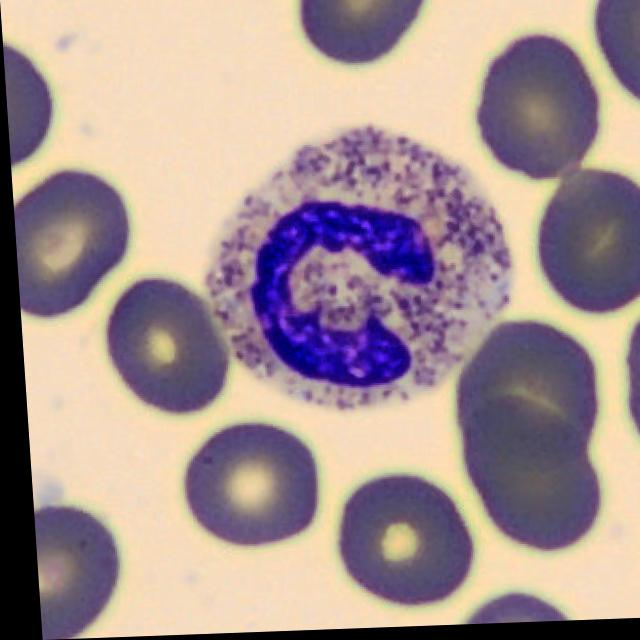Bastonete: (204, 130, 507, 410)
